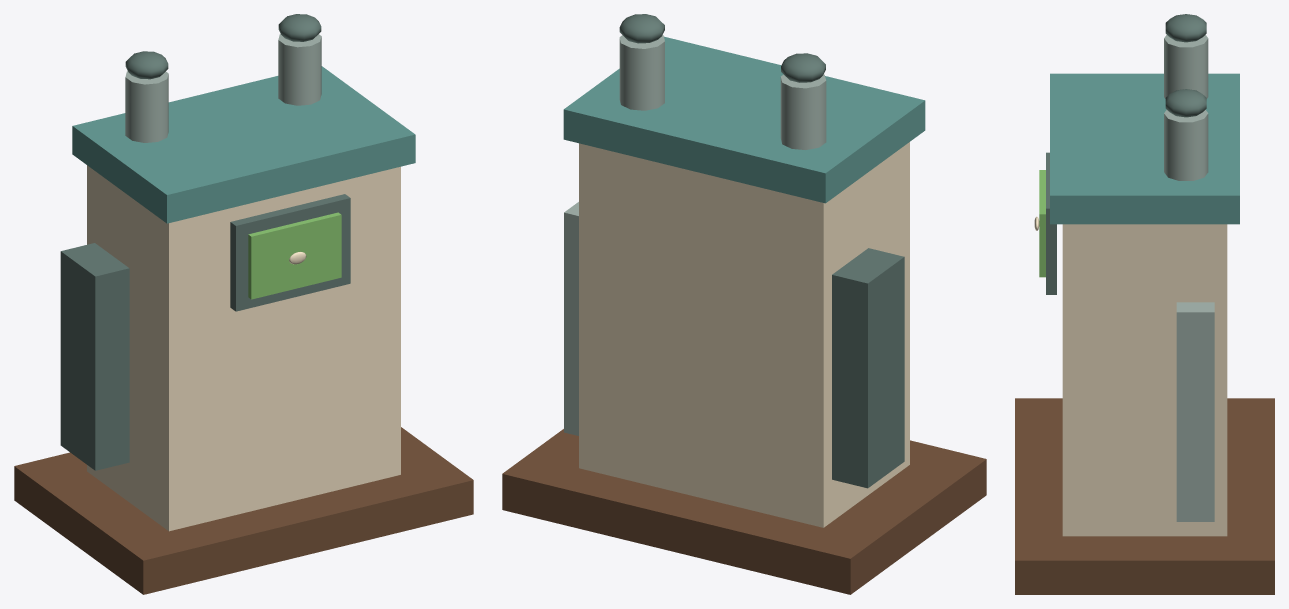
File: power-facility.glb
3 views of the same model, side by side, from view 1: azimuth 30°, elevation 25°; view 2: azimuth 150°, elevation 25°; view 3: azimuth 270°, elevation 25° (orthographic). The views are drawn at different scales.
Visible parts, largest first — view 1: power-facility_cream, power-facility_teal, power-facility_woodDark, power-facility_metalDark, status_indicator_statusReady, power-facility_metal, status_indicator_metalDark; view 2: power-facility_cream, power-facility_woodDark, power-facility_teal, power-facility_metalDark, power-facility_metal; view 3: power-facility_cream, power-facility_woodDark, power-facility_teal, power-facility_metal, power-facility_metalDark, status_indicator_metalDark, status_indicator_statusReady.
Part boxes in pixels (x1,y1,x2,y2): power-facility_cream: [87, 165, 400, 531]; power-facility_teal: [72, 66, 415, 223]; power-facility_woodDark: [14, 427, 473, 594]; power-facility_metalDark: [60, 14, 321, 470]; status_indicator_statusReady: [248, 212, 341, 299]; power-facility_metal: [125, 34, 321, 142]; status_indicator_metalDark: [230, 194, 350, 311]; power-facility_cream: [579, 142, 909, 527]; power-facility_woodDark: [502, 429, 986, 594]; power-facility_teal: [563, 36, 925, 203]; power-facility_metalDark: [619, 14, 904, 488]; power-facility_metal: [564, 35, 826, 435]; power-facility_cream: [1062, 224, 1227, 536]; power-facility_woodDark: [1015, 398, 1274, 594]; power-facility_teal: [1050, 73, 1239, 224]; power-facility_metal: [1164, 35, 1214, 521]; power-facility_metalDark: [1165, 14, 1206, 117]; status_indicator_metalDark: [1046, 152, 1056, 294]; status_indicator_statusReady: [1039, 170, 1045, 277].
Bounding box in the file's own units: 1.21 × 1.6 × 0.82.
